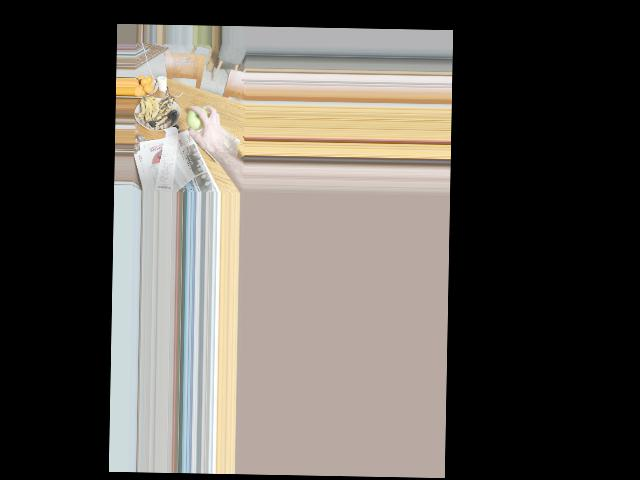apple: (186, 105, 207, 131)
